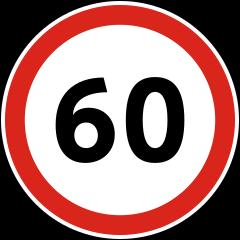Speed Limit -60-: (42, 69, 202, 181)
